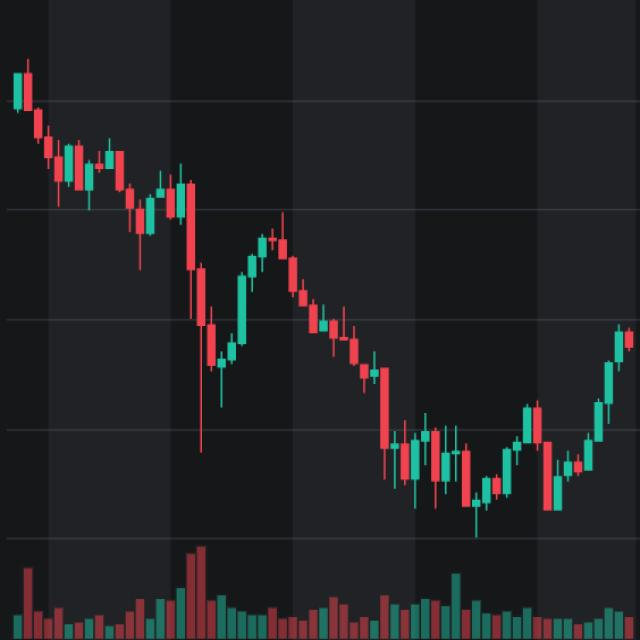Channel-down: (5, 52, 588, 576)
